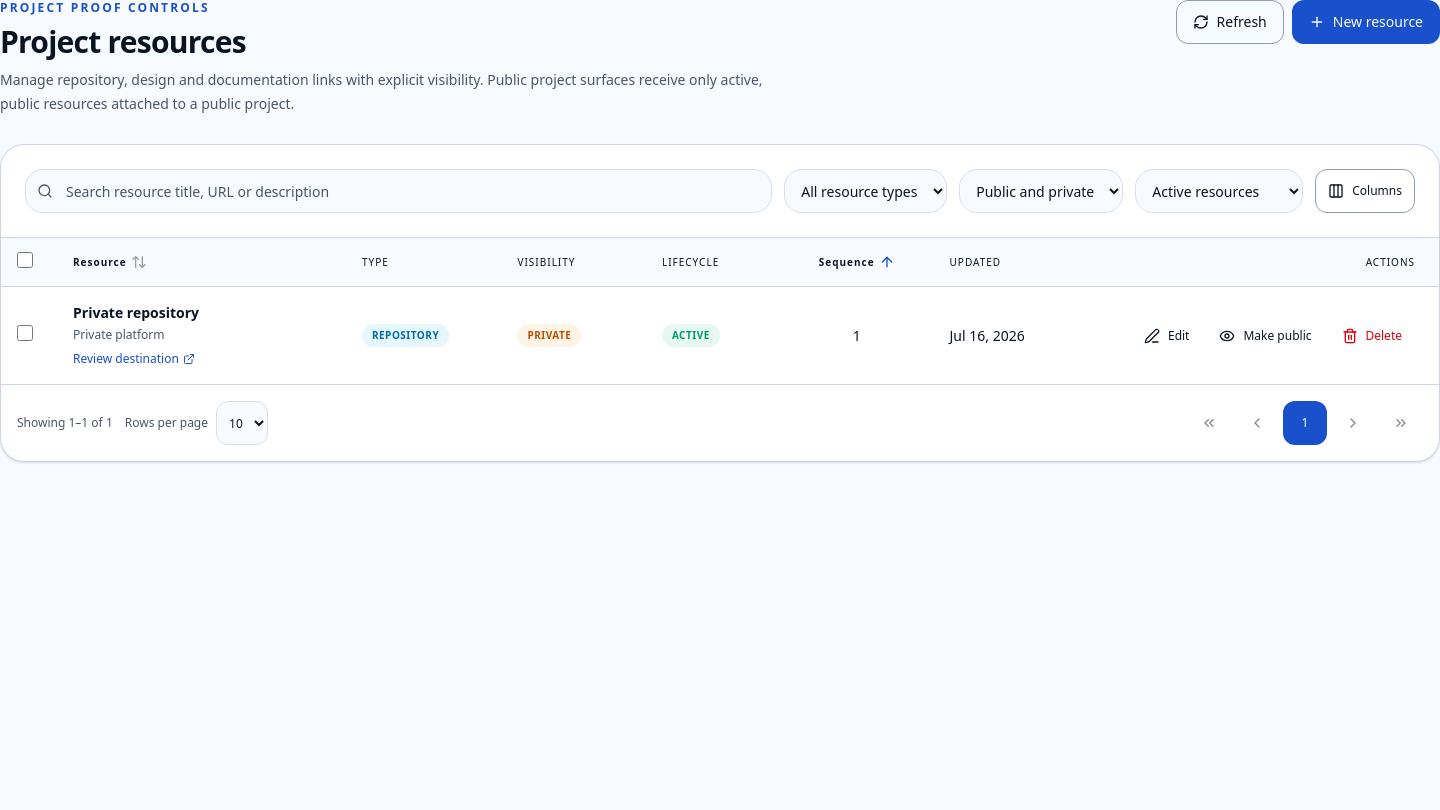
Test: ProjectResource admin workspace › creates a private resource using project choices from the admin endpoint
Expected: the text "Private repository" is shown, [73,303,199,322]
Click the button "New resource" at (1366, 22), box [1292,0,1439,44]
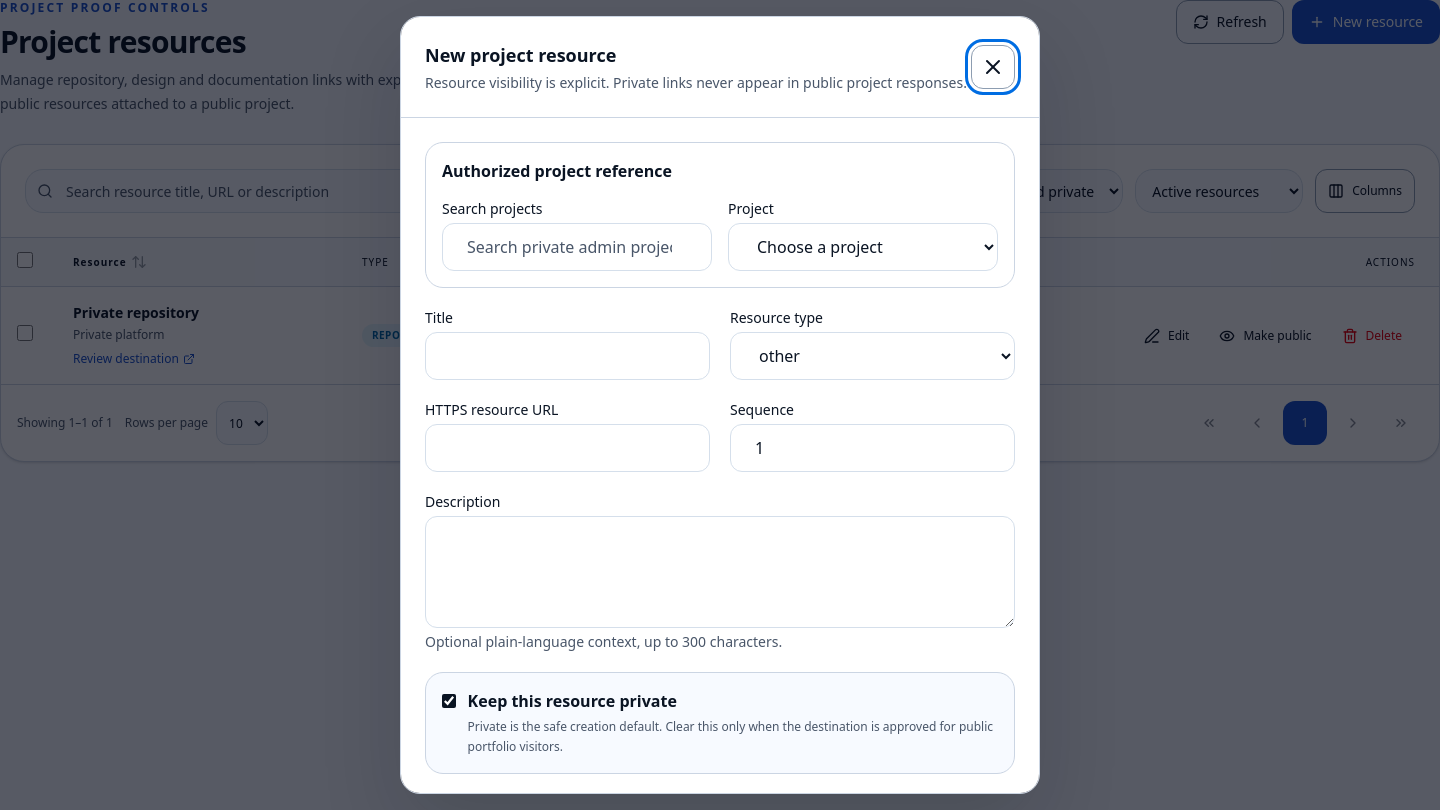
Result: the dialog "New project resource" is shown at [400,16,1040,794]
Select "Private platform" in the dropdown labelled "Project" at (863, 247), box [728,223,998,271]
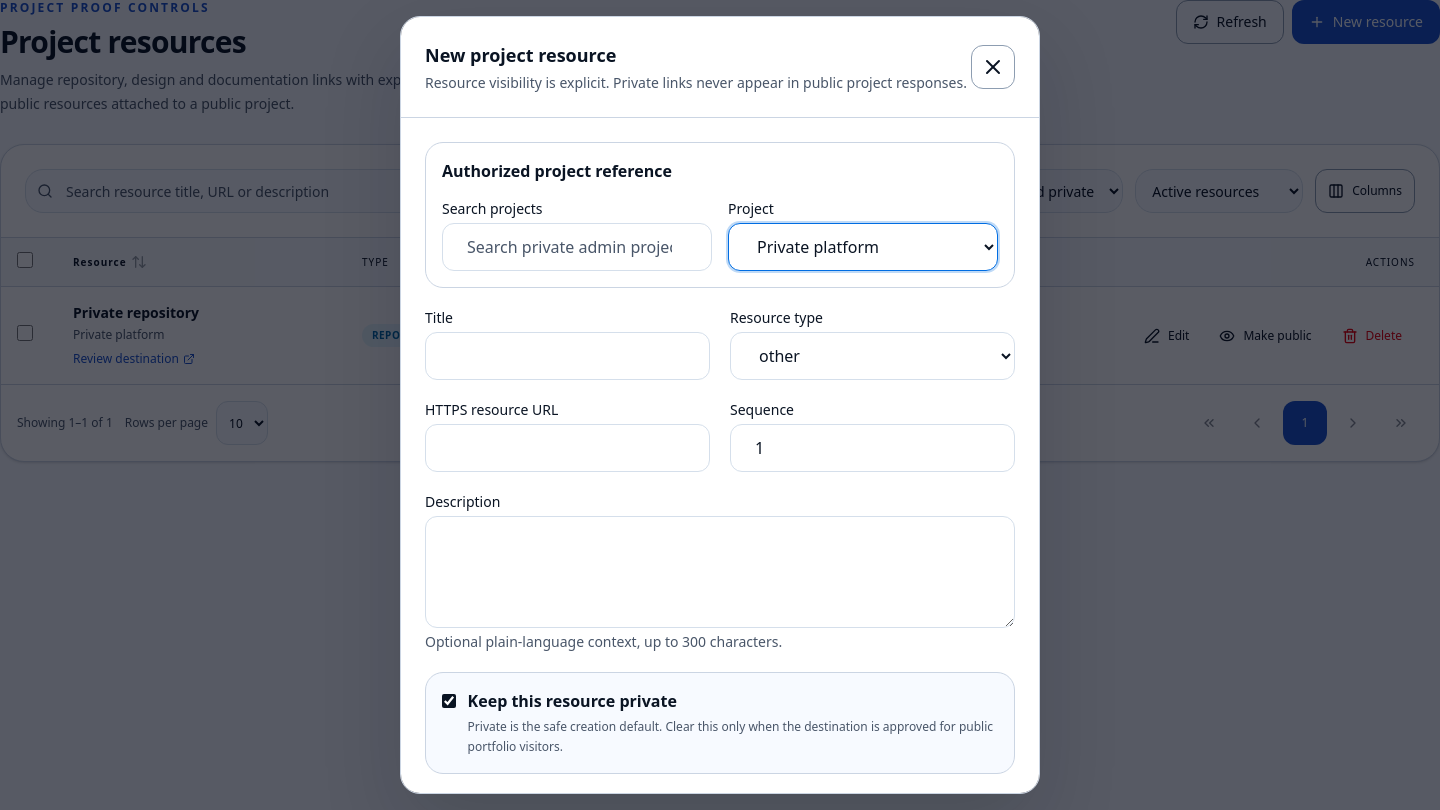
Type "Architecture notes" into the field labelled "Title" at (568, 356), box [425,332,710,380]
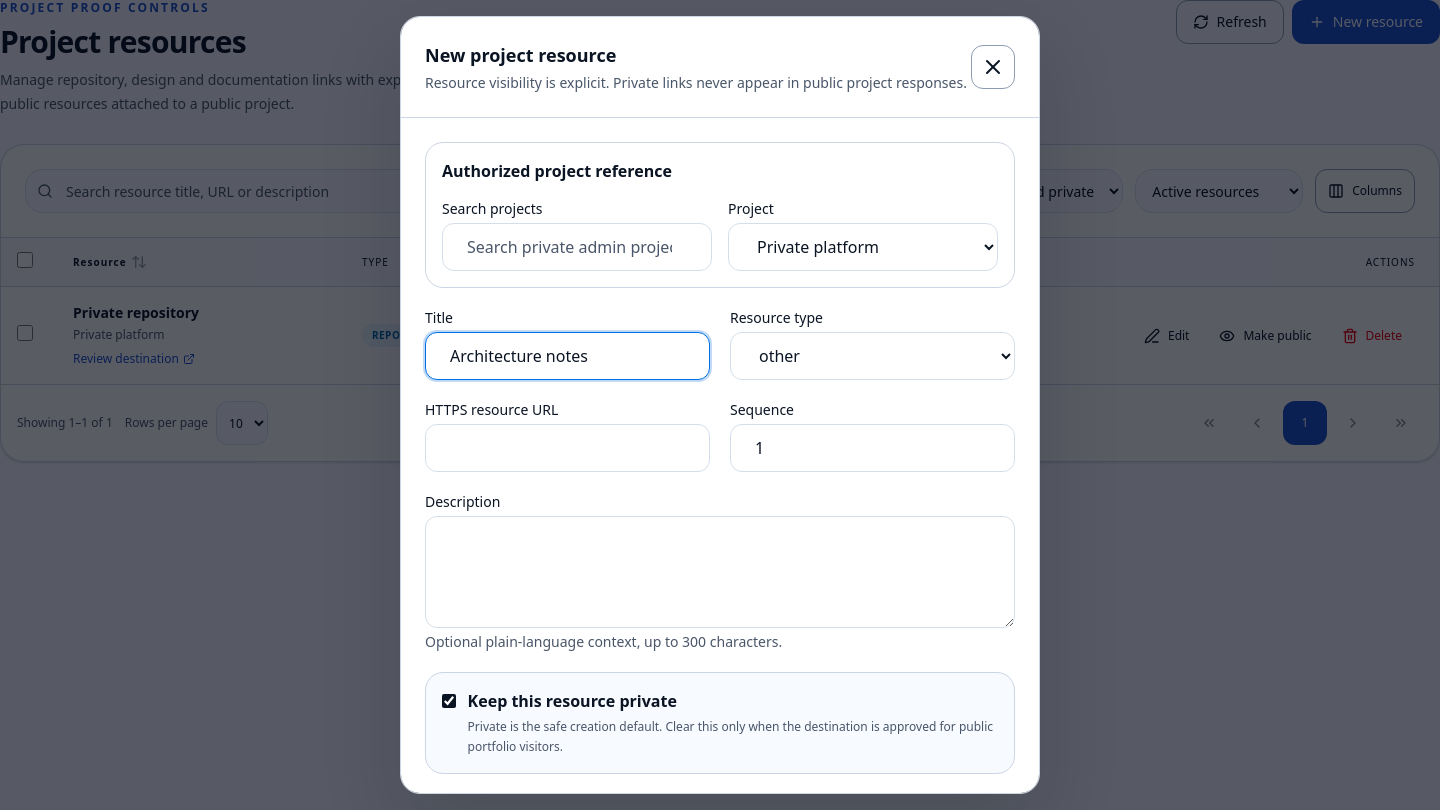
Type "https://docs.example.com/architecture" into the field labelled "HTTPS resource URL" at (568, 448), box [425,424,710,472]
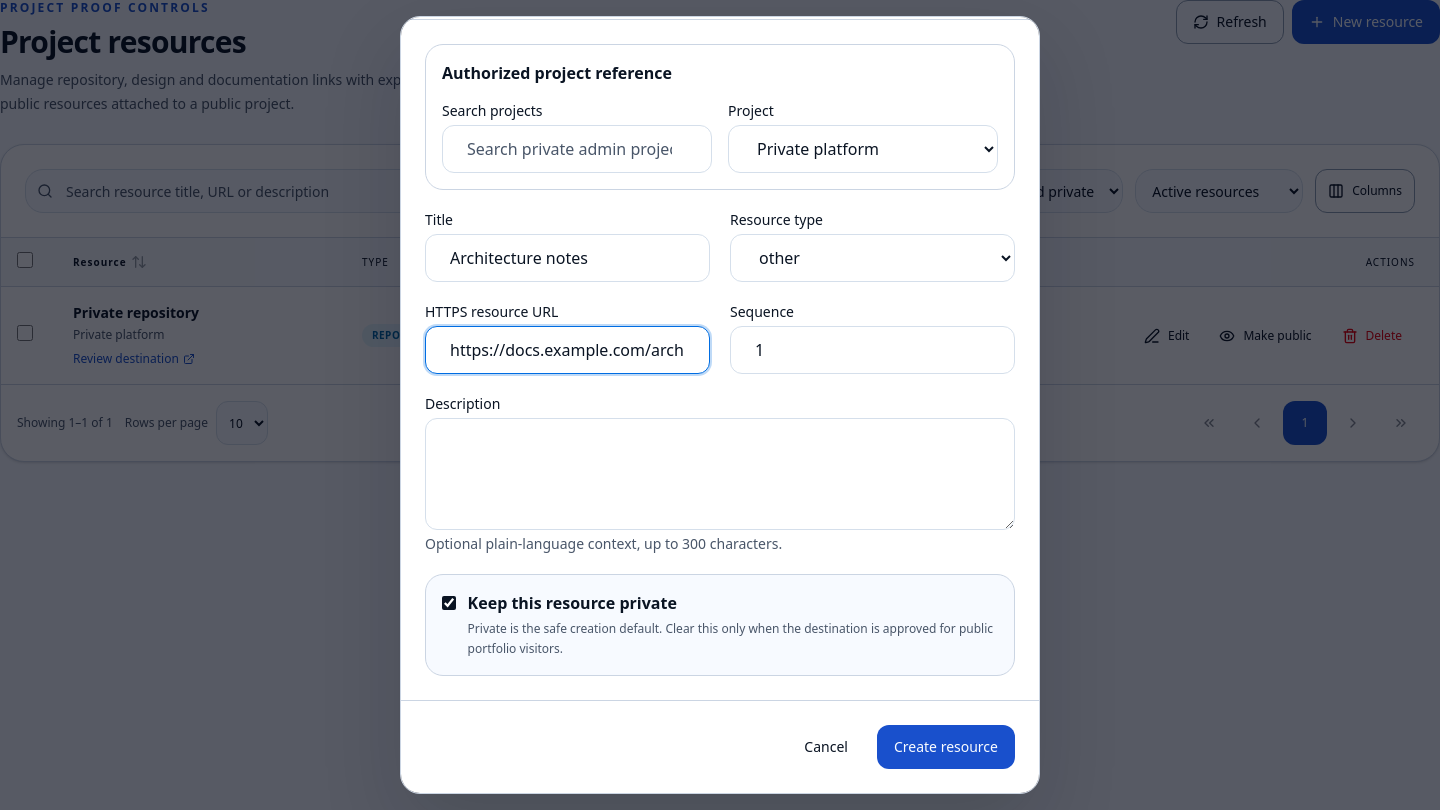
Result: the checkbox labelled "Keep this resource private" is checked at [442,595,456,611]
Click the button "Create resource" at (946, 747), box [877,725,1015,769]
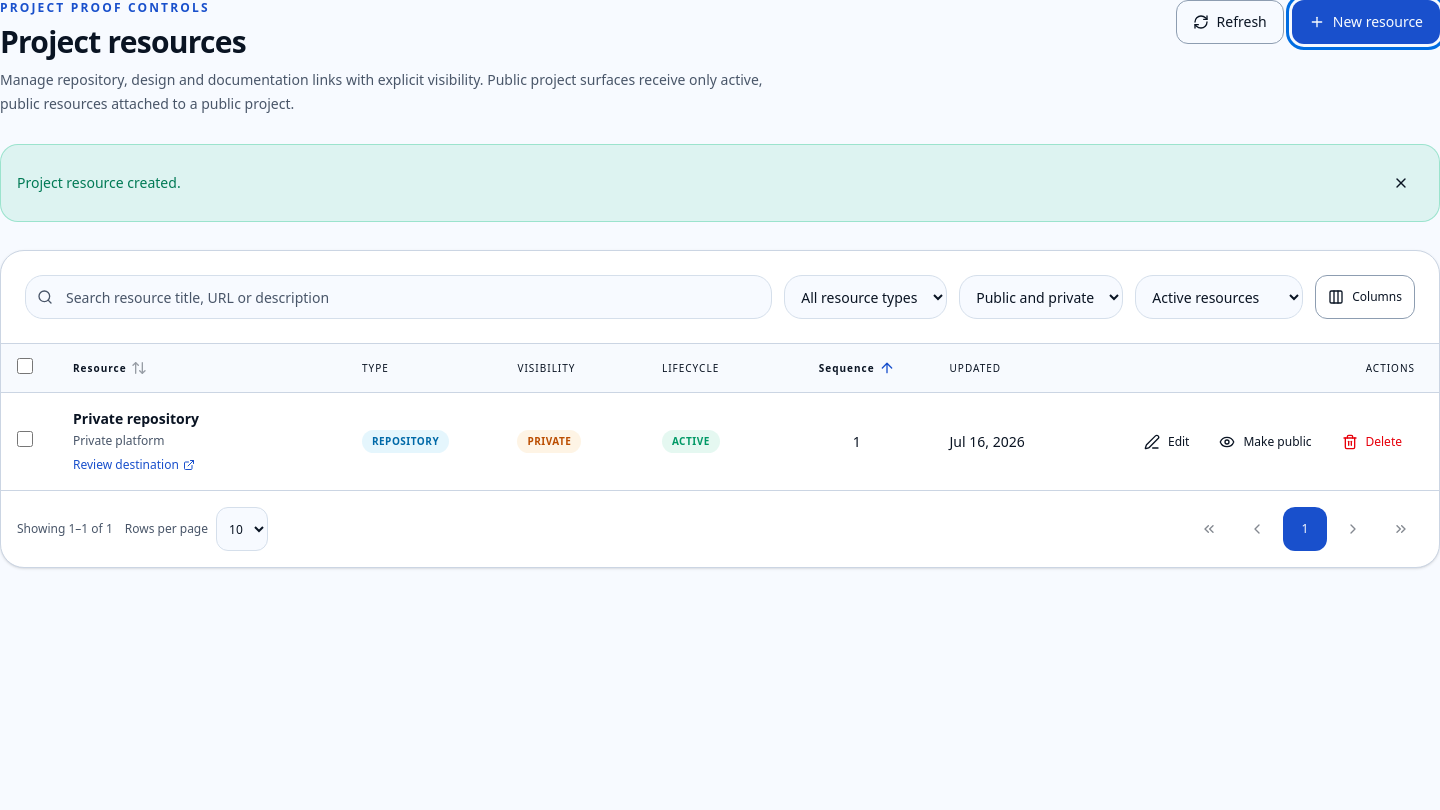
Result: the text "Project resource created." is shown at [17,173,181,193]
